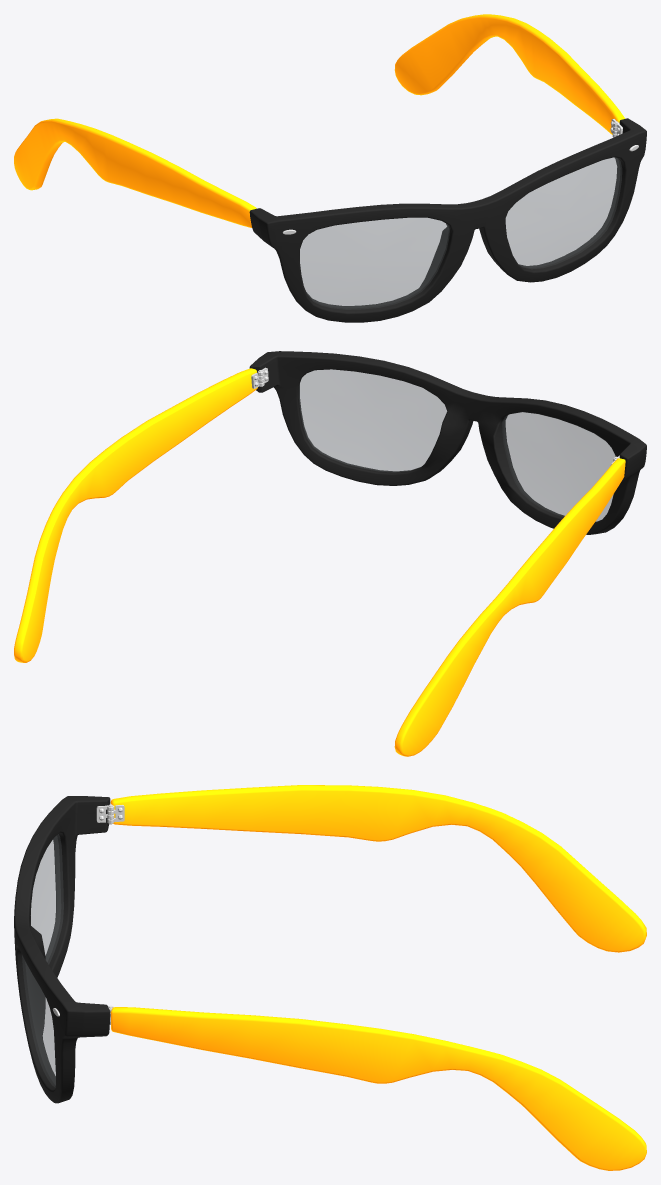
File: glasses.glb
The picture shows the model from 3 angles, top to bottom: view 1: azimuth 30°, elevation 25°; view 2: azimuth 150°, elevation 25°; view 3: azimuth 270°, elevation 25°; orthographic projection. The views are drawn at different scales.
Parts seen in each view (by area): view 1: Glass, stanghette_gialle, Glasses; view 2: stanghette_gialle, Glass, Glasses; view 3: stanghette_gialle, Glasses, Glass, metal.
Boxes of the visible parts, x1,y1,x2,y2 form: Glass: [300, 157, 621, 309]; stanghette_gialle: [14, 14, 625, 227]; Glasses: [249, 118, 646, 322]; stanghette_gialle: [14, 368, 625, 756]; Glass: [299, 369, 615, 521]; Glasses: [249, 351, 646, 534]; stanghette_gialle: [110, 785, 646, 1170]; Glasses: [14, 796, 110, 1103]; Glass: [22, 834, 63, 1086]; metal: [52, 804, 124, 1024].
Bounding box in the file's own units: 15.43 × 4.66 × 16.52.
